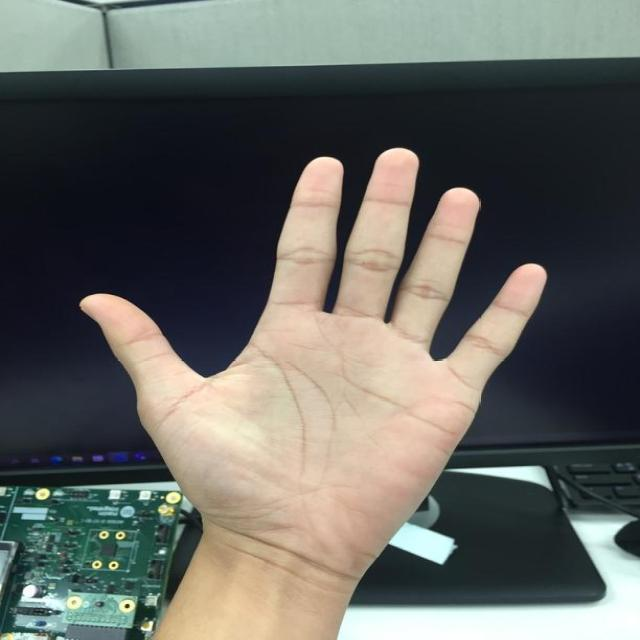no-gloves: (75, 146, 549, 568)
